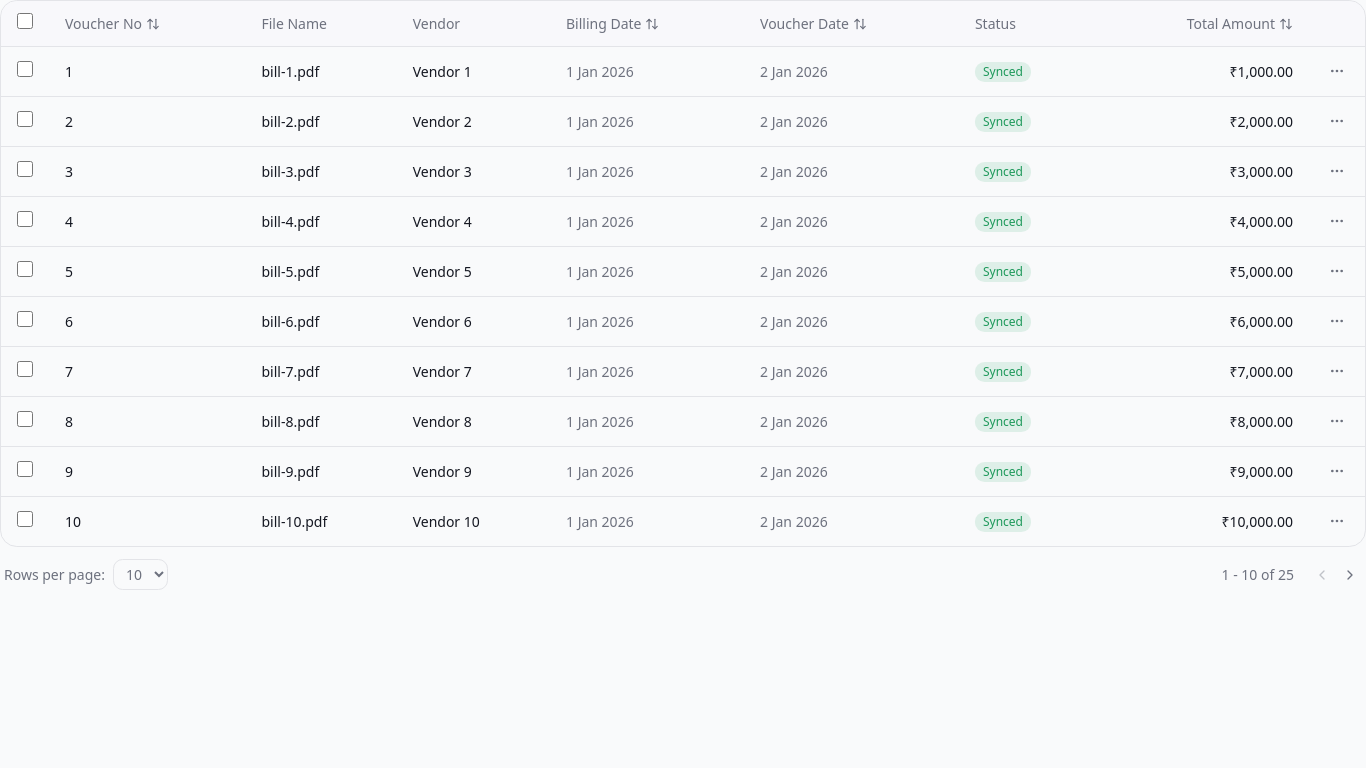
Test case: BillsTable pagination › shows only the first page of rows and paginates real client-side
Expected: the text "Vendor 1" is shown, [397,46,550,96]
Expected: the text "Vendor 11" is not shown
Click the button named "Next page" at (1350, 574), box [1338,562,1362,586]
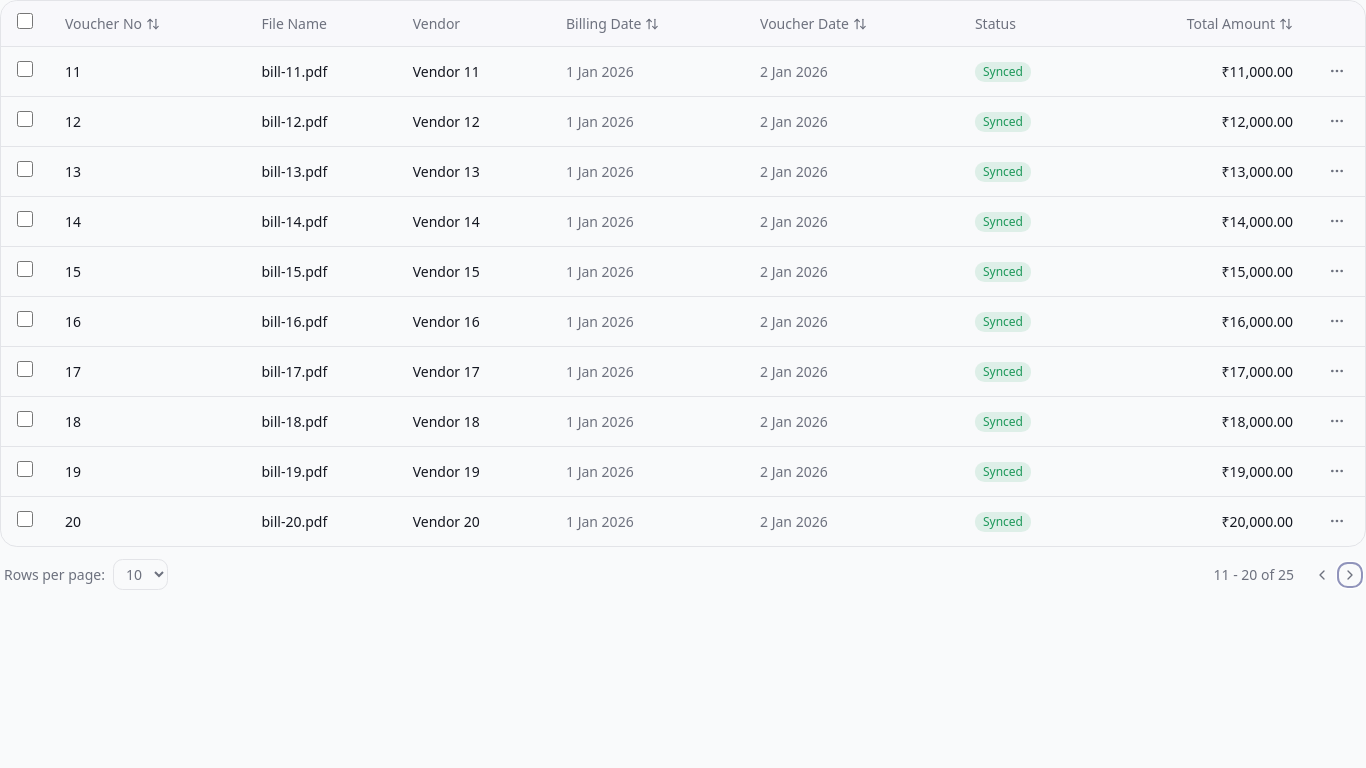
Expected: the text "Vendor 11" is shown, [397,46,550,96]
Expected: the text "11 - 20 of 25" is shown, [1214,564,1294,584]
